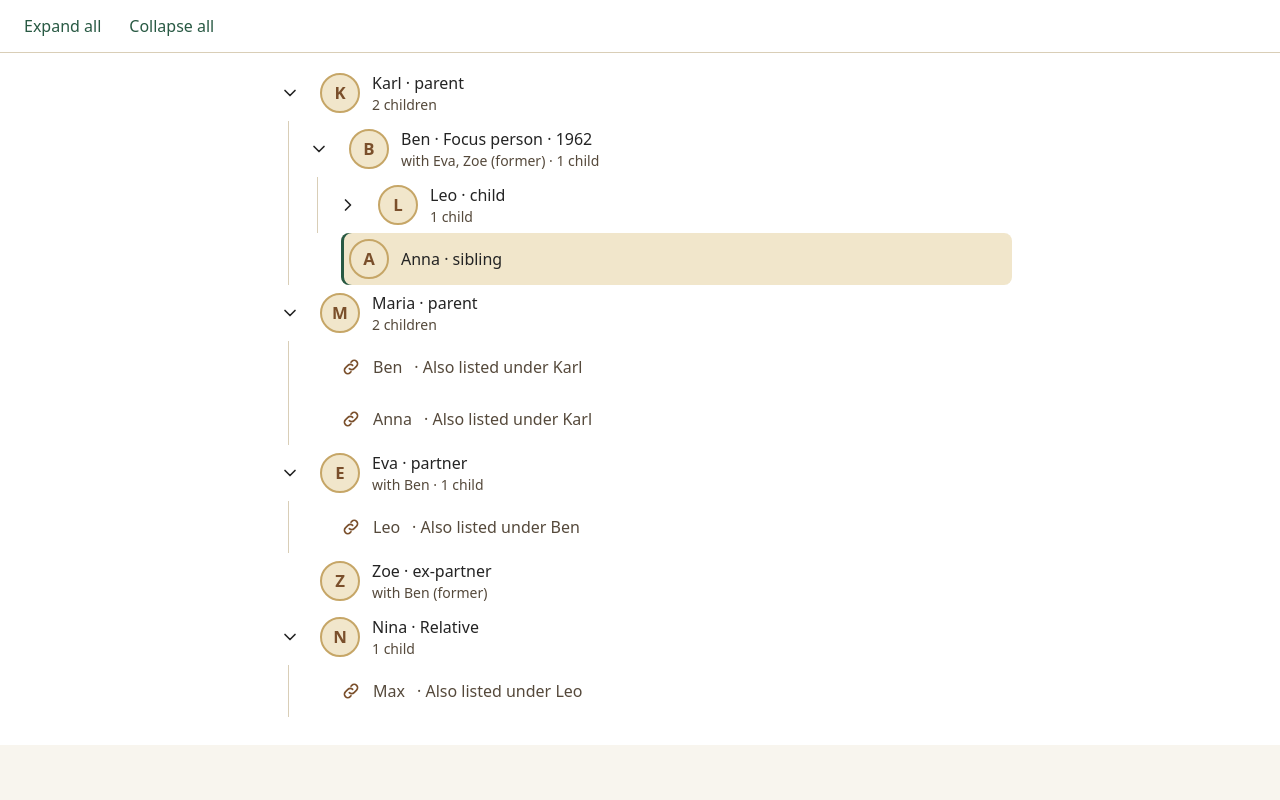
ListView › a branch holding the open Person can still be collapsed by hand
This screenshot has width=1280, height=800.
Click the button named "Collapse Karl's family": (290, 93) left=268, top=71, right=312, bottom=115
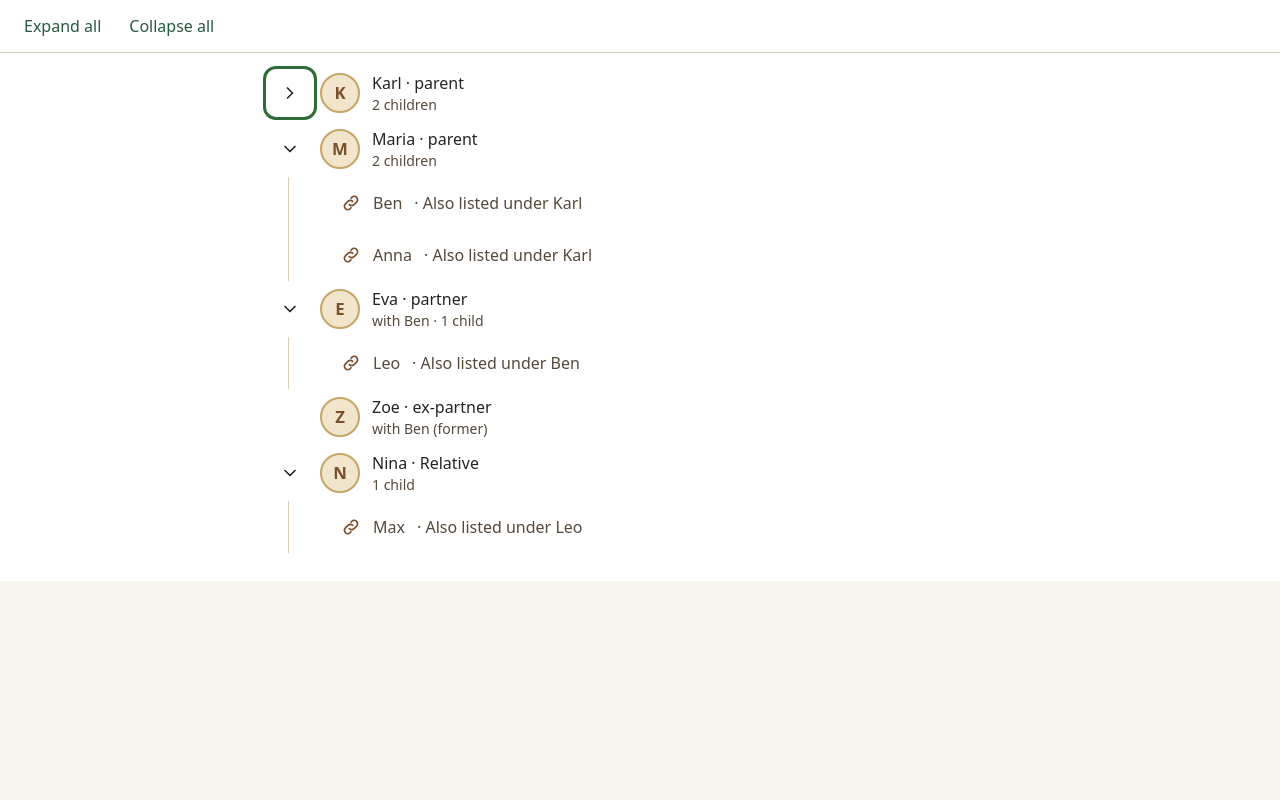
Expected: the button "Anna · sibling" is gone
